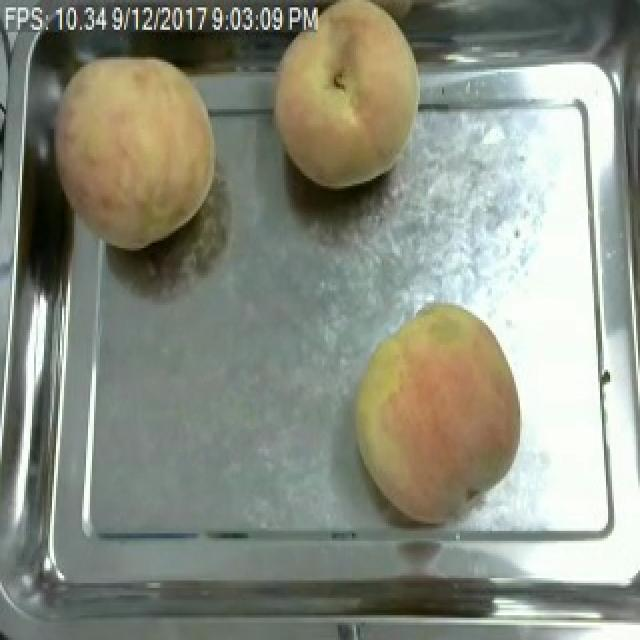Fruit: (344, 296, 532, 528), (44, 39, 226, 256), (260, 0, 432, 198)
